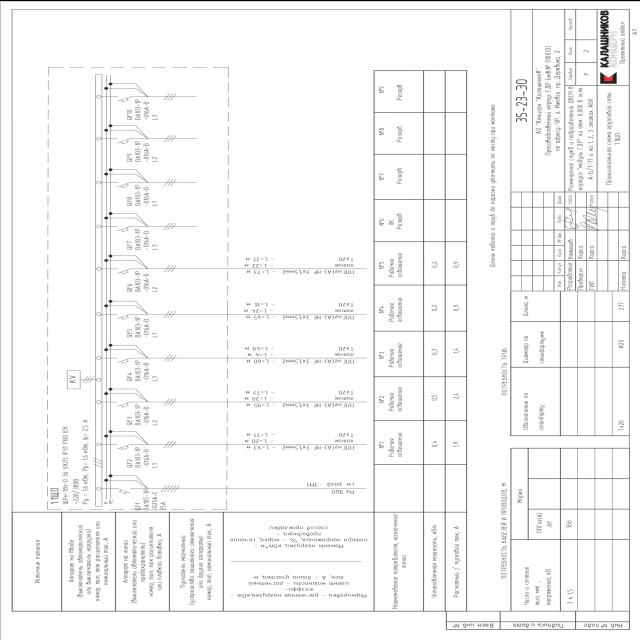-: (60, 422, 70, 504), (132, 316, 160, 338), (134, 445, 160, 467), (134, 403, 160, 425), (134, 270, 160, 292), (142, 488, 168, 510), (134, 359, 160, 381), (133, 98, 159, 120), (134, 183, 158, 206), (134, 140, 158, 162), (134, 228, 158, 250)
K: (64, 368, 82, 390)
QF: (115, 310, 133, 320), (114, 399, 132, 408), (114, 179, 132, 188), (114, 266, 132, 275), (114, 442, 132, 451), (114, 135, 132, 144), (114, 94, 132, 103), (115, 486, 134, 494), (115, 224, 133, 232), (114, 356, 132, 364)
